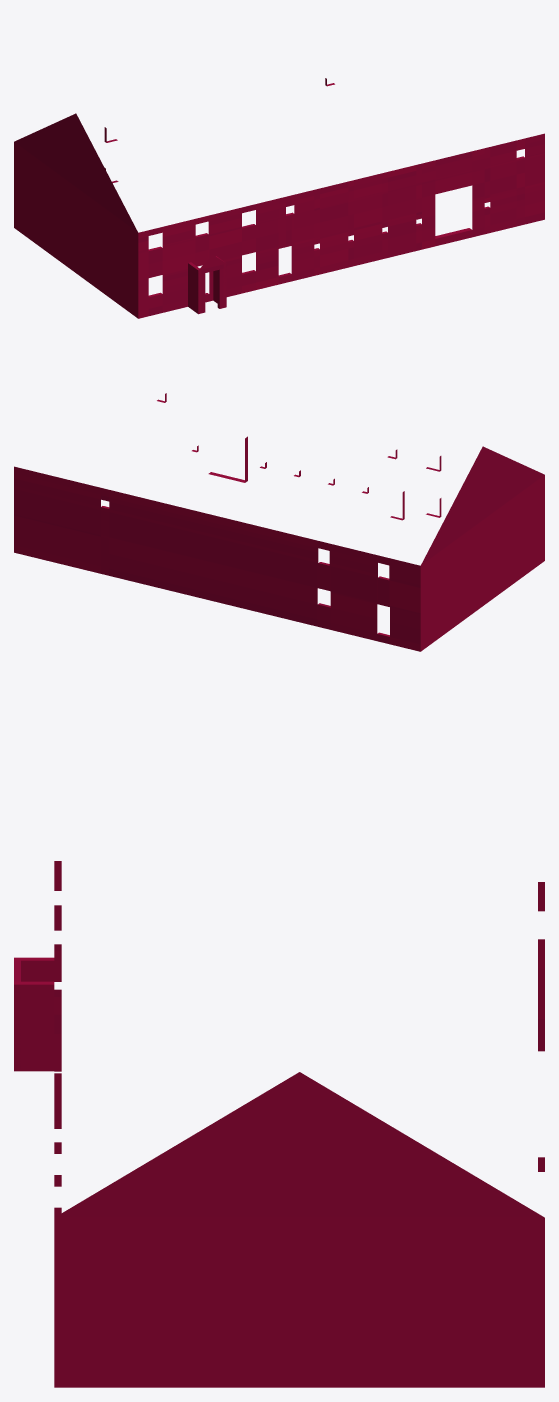
The model's file is SM_Bld_035_Masonry.glb.
3 views of the same model, one above another, from view 1: azimuth 30°, elevation 25°; view 2: azimuth 150°, elevation 25°; view 3: azimuth 270°, elevation 25° (orthographic). The views are drawn at different scales.
Visible parts, largest first — view 1: SM_Bld_035_Masonry; view 2: SM_Bld_035_Masonry; view 3: SM_Bld_035_Masonry.
Part boxes in pixels (x1=…): SM_Bld_035_Masonry: x1=14, y1=78, x2=544, y2=318; SM_Bld_035_Masonry: x1=14, y1=393, x2=544, y2=651; SM_Bld_035_Masonry: x1=14, y1=861, x2=544, y2=1387.
Size of the model in its own units: 28.66 by 10.78 by 16.43.
